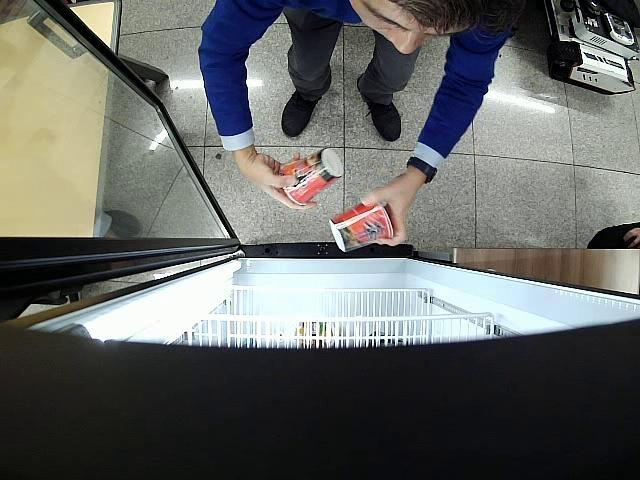02_shinRamen_S: (281, 150, 344, 204), (329, 203, 394, 252)
